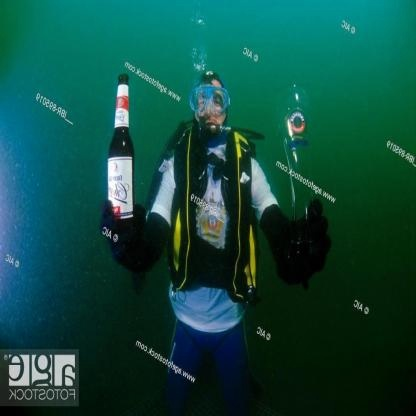gbottle: (106, 72, 135, 232)
misc: (278, 86, 314, 233)
